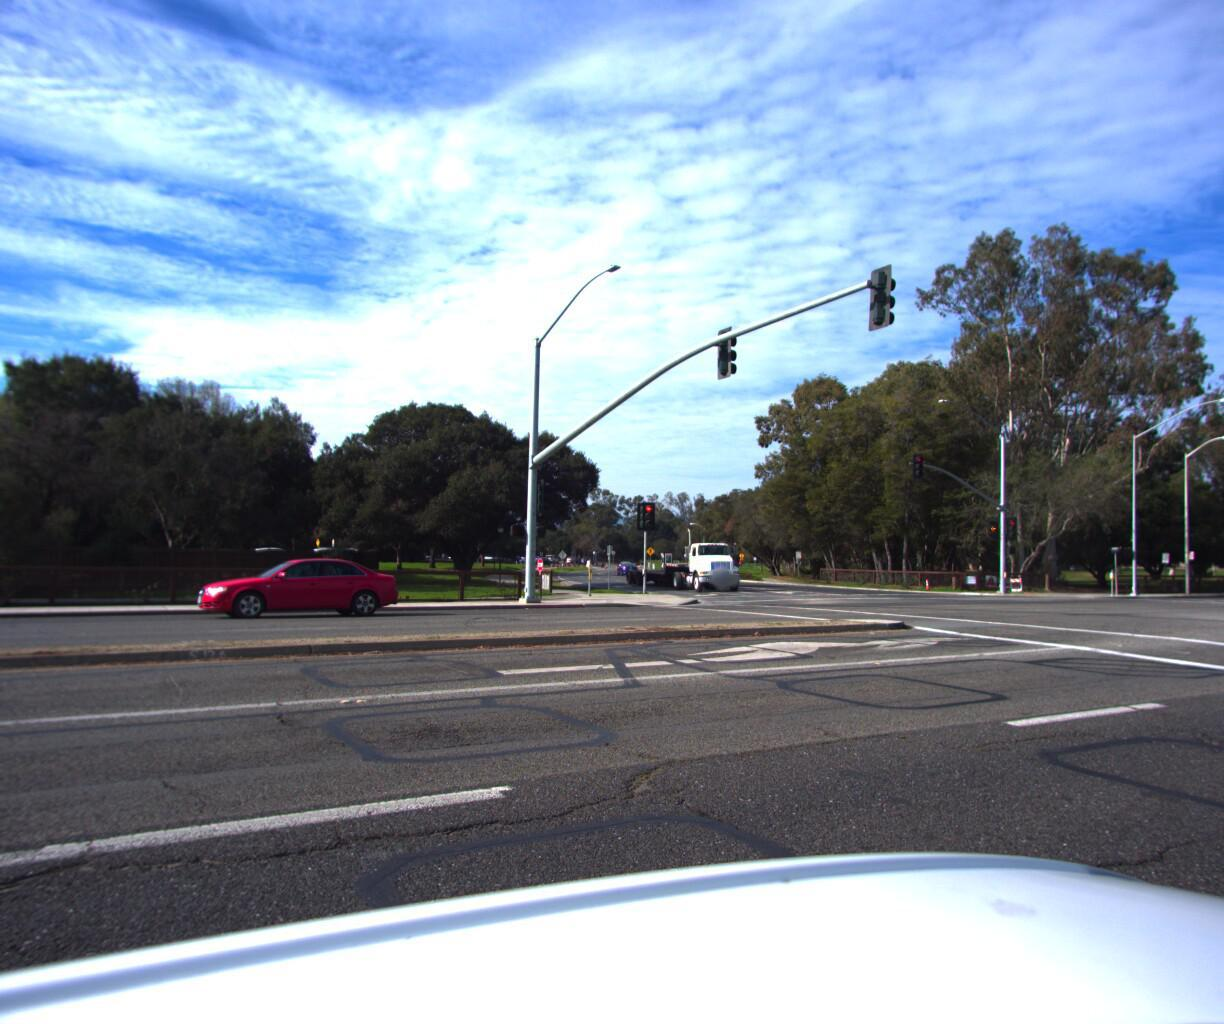car: (179, 549, 397, 617), (296, 542, 363, 568), (235, 542, 291, 565), (617, 559, 639, 574)
truck: (622, 527, 746, 595)
